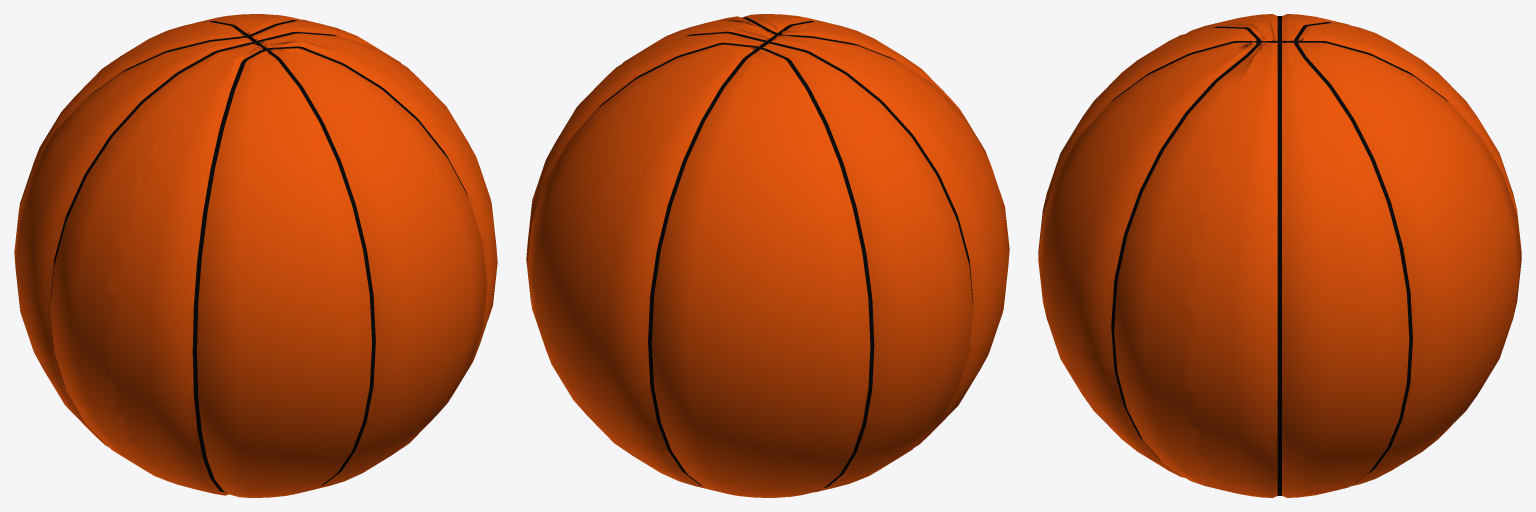
The model's file is ball.fbx.
The picture shows the model from 3 angles, left to right: view 1: azimuth 30°, elevation 25°; view 2: azimuth 150°, elevation 25°; view 3: azimuth 270°, elevation 25°; orthographic projection.
Parts seen in each view (by area): view 1: Sphere; view 2: Sphere; view 3: Sphere.
Part boxes in pixels (x1=…): Sphere: x1=14, y1=14, x2=497, y2=497; Sphere: x1=526, y1=14, x2=1009, y2=497; Sphere: x1=1038, y1=14, x2=1521, y2=497.
Bounding box in the file's own units: 199 × 196 × 199.
